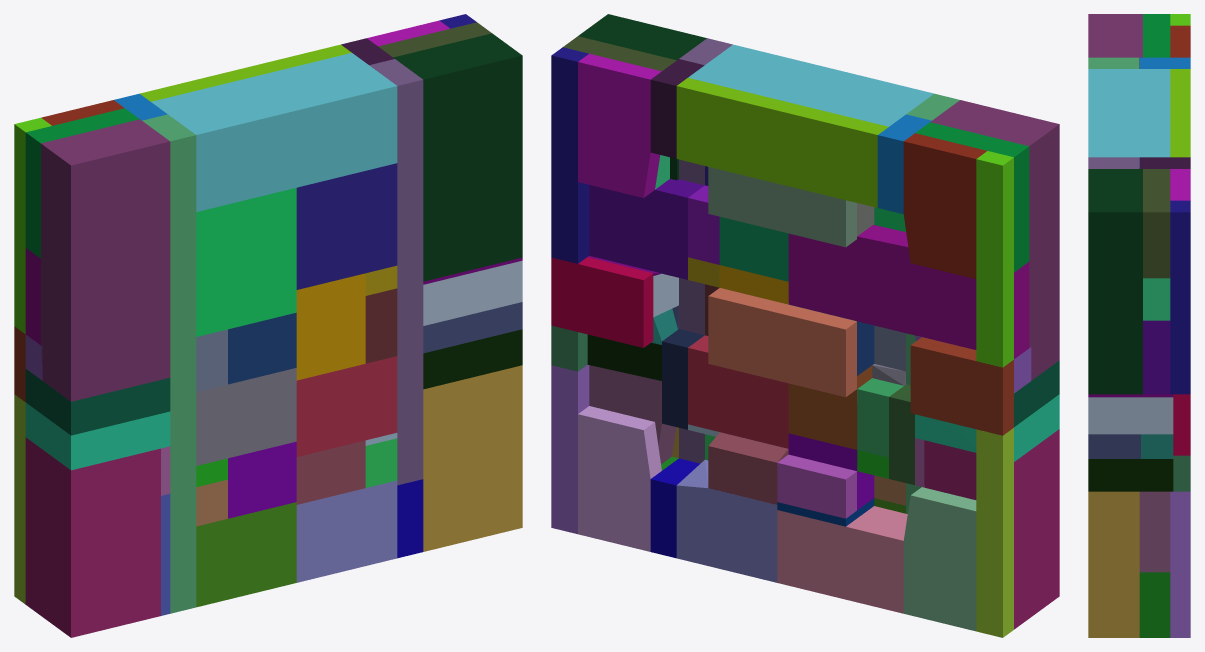
Rendered from board_3_0_canonical.obj.
3 views of the same model, side by side, from view 1: azimuth 30°, elevation 25°; view 2: azimuth 150°, elevation 25°; view 3: azimuth 270°, elevation 25° (orthographic). The views are drawn at different scales.
Visible parts, largest first — view 1: geometry_28, geometry_2, geometry_25, geometry_56, geometry_37, geometry_3, geometry_23, geometry_1, geometry_18, geometry_30, geometry_12, geometry_58 (+28 smaller); view 2: geometry_4, geometry_14, geometry_9, geometry_24, geometry_56, geometry_28, geometry_49, geometry_22, geometry_15, geometry_39, geometry_2, geometry_12 (+39 smaller); view 3: geometry_25, geometry_37, geometry_2, geometry_20, geometry_6, geometry_40, geometry_63, geometry_57, geometry_41, geometry_28, geometry_8, geometry_27 (+15 smaller).
Boxes of the visible parts, x1,y1,x2,y2 form: geometry_28: (41,119,170,401); geometry_2: (151,53,397,211); geometry_25: (393,33,522,281); geometry_56: (25,437,160,637); geometry_37: (423,365,522,551); geometry_3: (142,114,196,613); geometry_23: (196,187,296,336); geometry_1: (369,59,423,485); geometry_18: (296,163,397,289); geometry_30: (196,502,296,607); geometry_12: (296,480,397,582); geometry_58: (296,356,397,456); geometry_4: (676,78,888,207); geometry_14: (788,225,1029,358); geometry_9: (708,288,856,397); geometry_24: (777,506,907,613); geometry_56: (924,429,1059,629); geometry_28: (930,100,1059,380); geometry_49: (578,406,661,551); geometry_22: (578,53,661,197); geometry_15: (903,133,986,278); geometry_39: (903,487,976,631); geometry_2: (688,44,933,126); geometry_12: (676,460,777,582); geometry_25: (1088,169,1142,394); geometry_37: (1088,491,1139,637); geometry_2: (1088,69,1170,167); geometry_20: (1170,200,1190,394); geometry_6: (1088,397,1173,434); geometry_40: (1170,491,1190,637); geometry_63: (1143,169,1170,278); geometry_57: (1088,459,1173,491); geometry_41: (1139,491,1170,572); geometry_28: (1088,14,1142,68); geometry_8: (1139,572,1170,637); geometry_27: (1143,320,1170,394).
Size of the model in its own units: 0.23 by 0.23 by 0.05.
